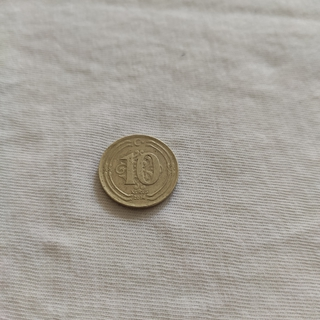10KURUS: (96, 132, 179, 210)
